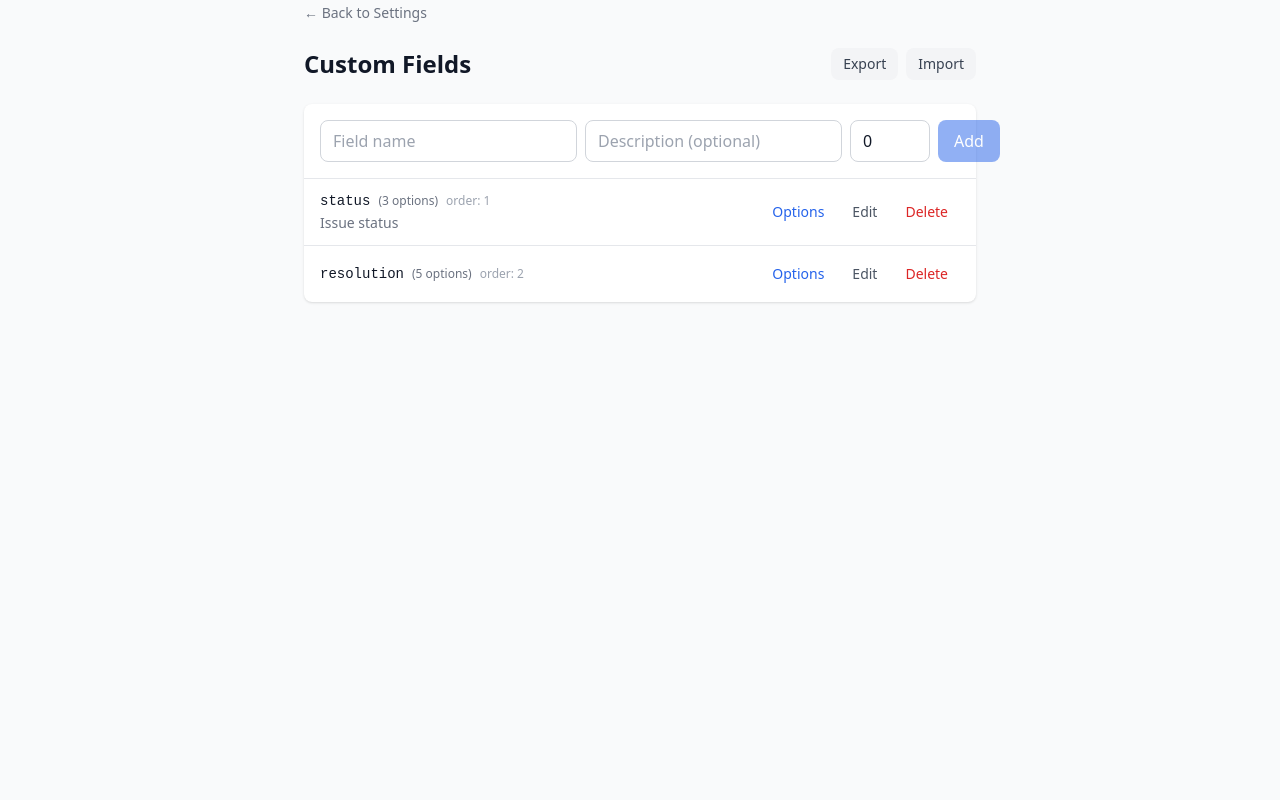
Test: SettingsCustomFields › shows delete confirmation when delete button is clicked
The width and height of the screenshot is (1280, 800).
Check: the text "status" is shown, box [320,191,370,211]
Click the button "Delete" in the row of "order: 1": [927, 212] box [893,196,960,228]
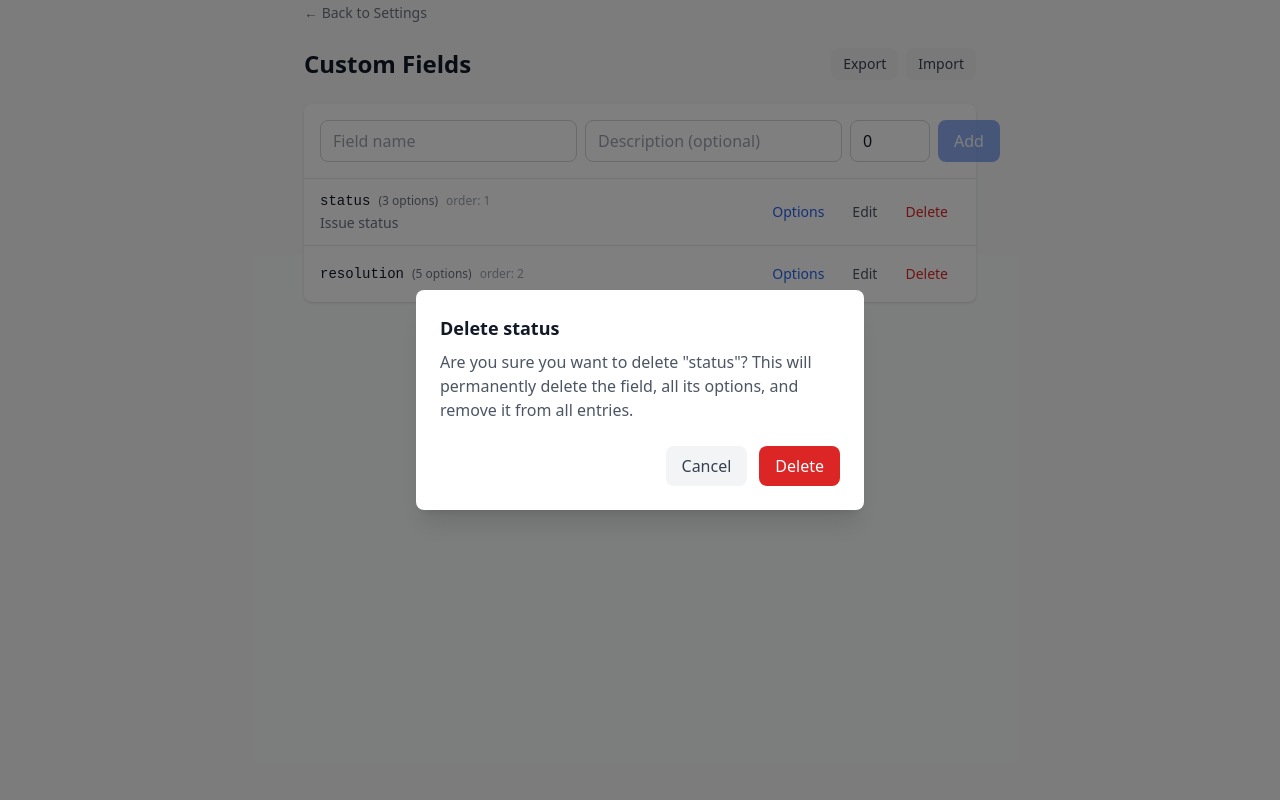
Check: the text "will permanently delete the field" is shown, box [440,351,812,421]
